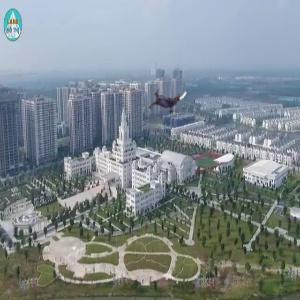drone: (147, 81, 189, 123)
